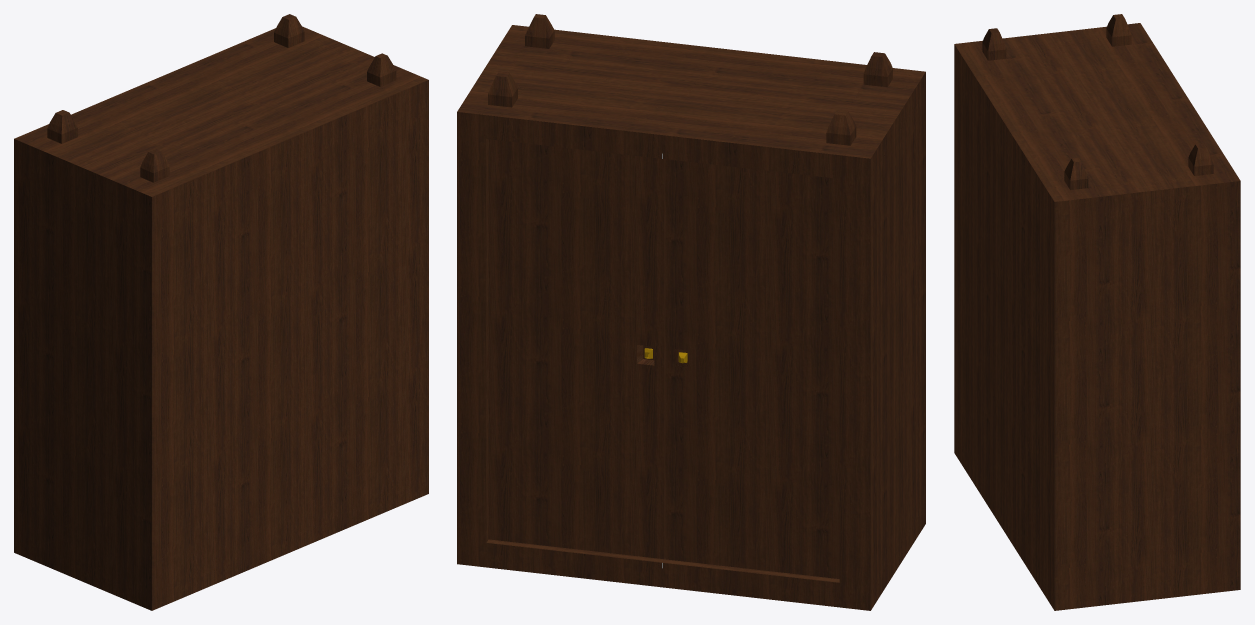
File: armario.fbx
3 renders of one model, left to right at view 1: azimuth 30°, elevation 25°; view 2: azimuth 150°, elevation 25°; view 3: azimuth 270°, elevation 25°, orthographic. The views are drawn at different scales.
Parts seen in each view (by area): view 1: closet:Mesh; view 2: closet:Mesh; view 3: closet:Mesh.
Boxes of the visible parts, x1=… form: closet:Mesh: x1=14, y1=14, x2=428, y2=610; closet:Mesh: x1=457, y1=14, x2=925, y2=610; closet:Mesh: x1=954, y1=14, x2=1240, y2=610.
Bounding box in the file's own units: 4.5 × 5.08 × 3.04.
Materials: 3 (1 with a texture image).
